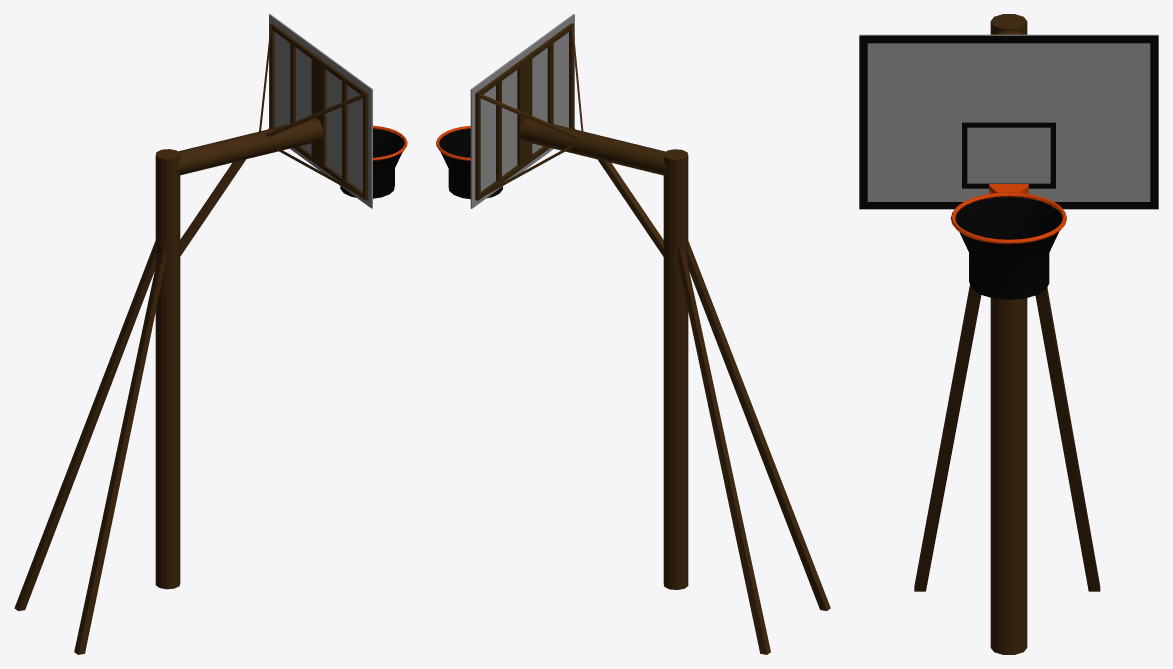
The picture shows the model from 3 angles, left to right: view 1: azimuth 30°, elevation 25°; view 2: azimuth 150°, elevation 25°; view 3: azimuth 270°, elevation 25°; orthographic projection. The views are drawn at different scales.
Visible parts, largest first — view 1: default; view 2: default; view 3: default.
Part boxes in pixels (x1,y1,x2,y2): default: (14, 14, 407, 654); default: (436, 14, 830, 654); default: (859, 14, 1158, 654).
Bounding box in the file's own units: 2.61 × 3.58 × 1.3.
